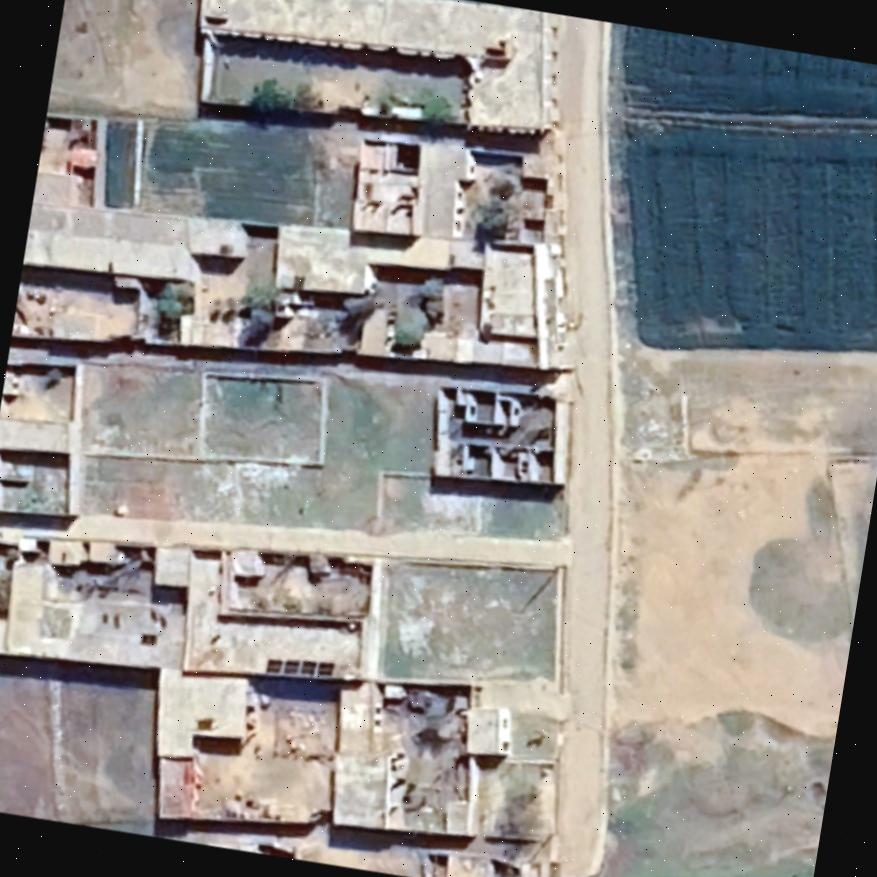Solarpanel: (258, 647, 341, 689)
